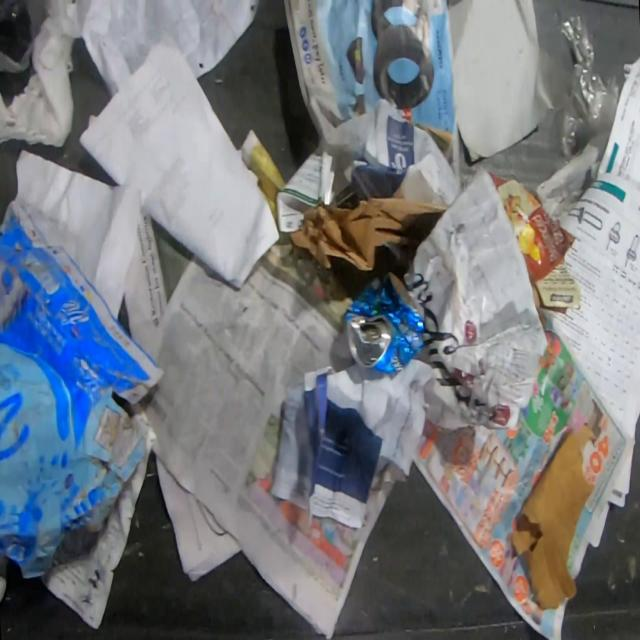cardboard: (0, 197, 168, 575), (489, 172, 581, 316)
metal: (346, 281, 425, 375)
soft_plastic: (0, 1, 91, 147), (552, 10, 620, 169)
